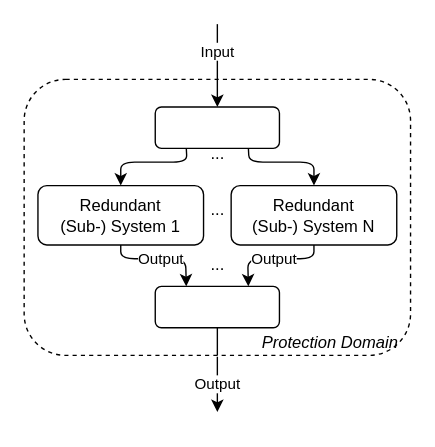
This 435x447 diagram has some shape labels left out. The centre of each missing label's shape, as x and y in pixels:
Comparison: the point at 216,306
Replication: the point at 216,127
